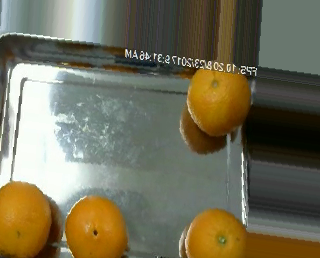Orange: (64, 192, 128, 258), (1, 179, 53, 258), (182, 207, 245, 258)
